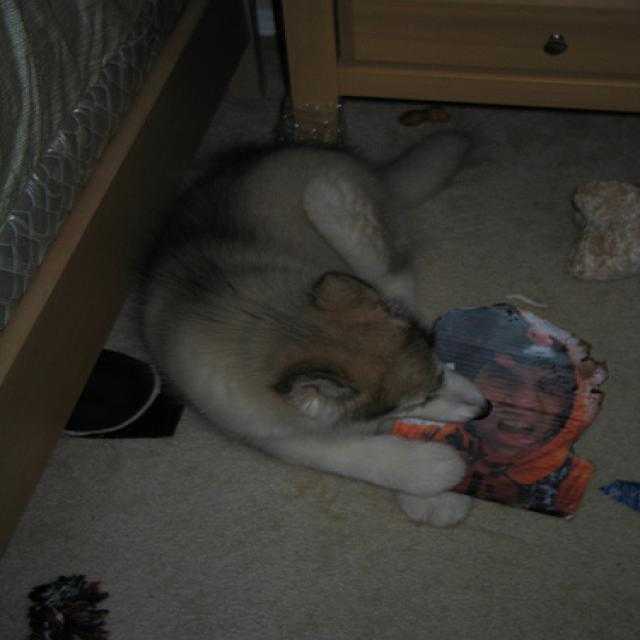dog: (174, 151, 566, 592)
